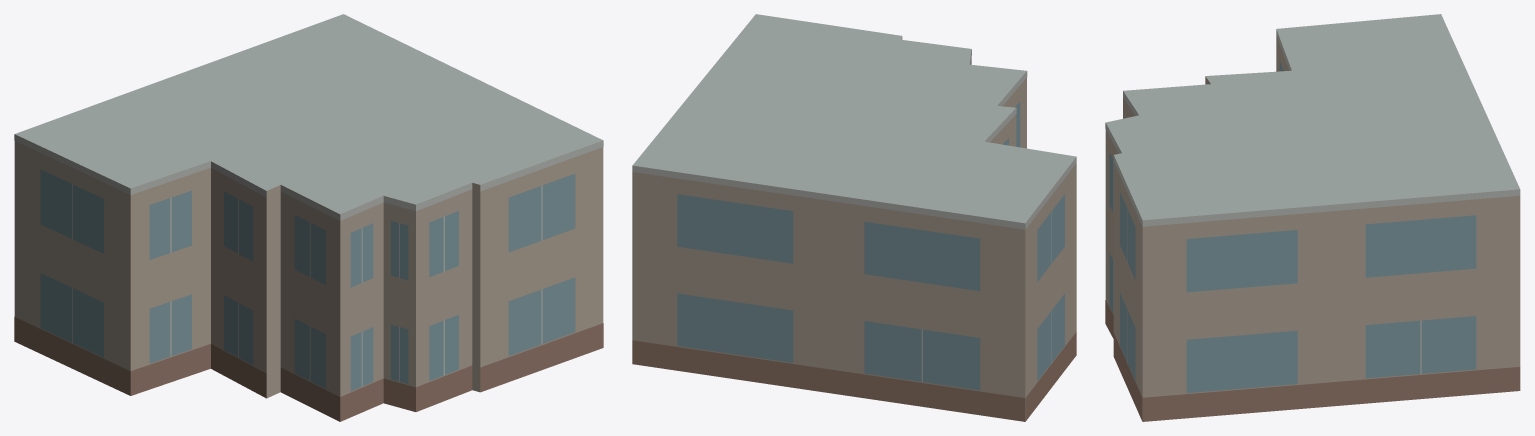
The model's file is survey-upis-32642484.glb.
3 views of the same model, side by side, from view 1: azimuth 30°, elevation 25°; view 2: azimuth 150°, elevation 25°; view 3: azimuth 270°, elevation 25° (orthographic). The views are drawn at different scales.
Visible parts, largest first — view 1: survey-upis-32642484.tmp; view 2: survey-upis-32642484.tmp; view 3: survey-upis-32642484.tmp.
Part boxes in pixels (x1,y1,x2,y2): survey-upis-32642484.tmp: (14,14,603,421); survey-upis-32642484.tmp: (632,14,1076,421); survey-upis-32642484.tmp: (1105,14,1520,421).
Bounding box in the file's own units: 16.92 × 7.7 × 14.37.
